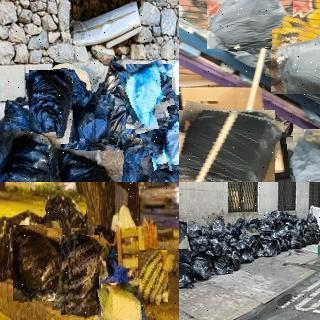Garbage: (179, 105, 279, 182), (206, 0, 293, 50), (267, 22, 320, 101), (11, 224, 64, 302), (57, 234, 103, 317), (122, 62, 176, 132), (87, 130, 159, 182), (27, 69, 75, 145), (0, 129, 57, 182), (44, 149, 121, 182), (70, 94, 113, 150), (135, 249, 172, 304), (99, 281, 145, 320), (46, 194, 86, 228), (160, 108, 179, 168), (205, 214, 228, 240), (190, 253, 213, 278), (211, 255, 234, 275), (179, 261, 195, 288), (256, 239, 278, 257), (244, 219, 261, 236), (179, 221, 188, 250), (240, 249, 254, 263), (274, 224, 288, 238)
